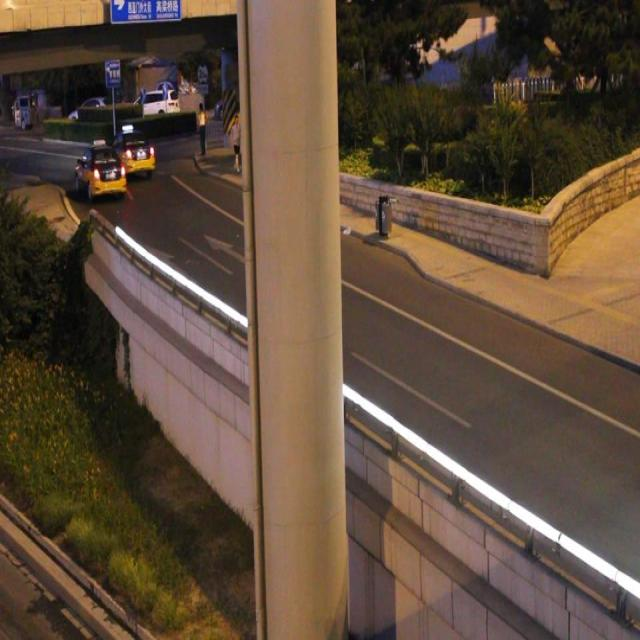car: (76, 148, 125, 194), (109, 130, 154, 172)
